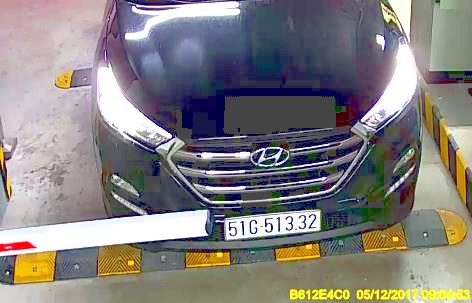plate: (218, 209, 321, 239)
